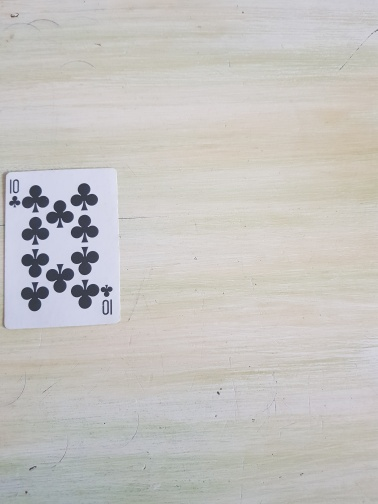ten: (3, 167, 120, 330)
